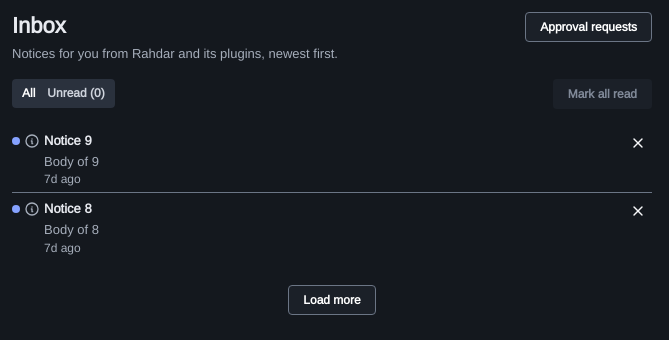
Scenario: InboxView › loads the next page by keyset
What coordinates should you click on to do the following:
click the button "Load more"
I would click on:
 (332, 300)
Its box is [288,285,376,315].
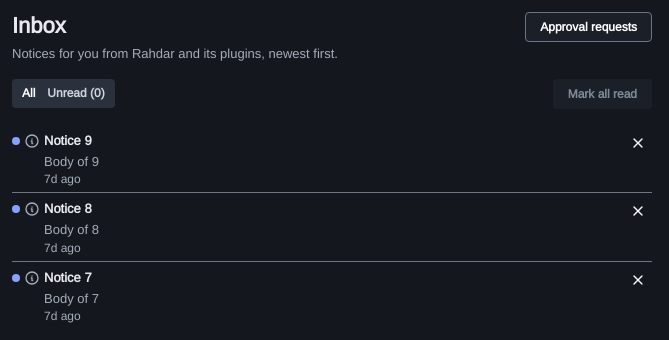
Check: the button "Notice 7" is shown, box [44,266,92,290]
Check: the button "Load more" is gone
